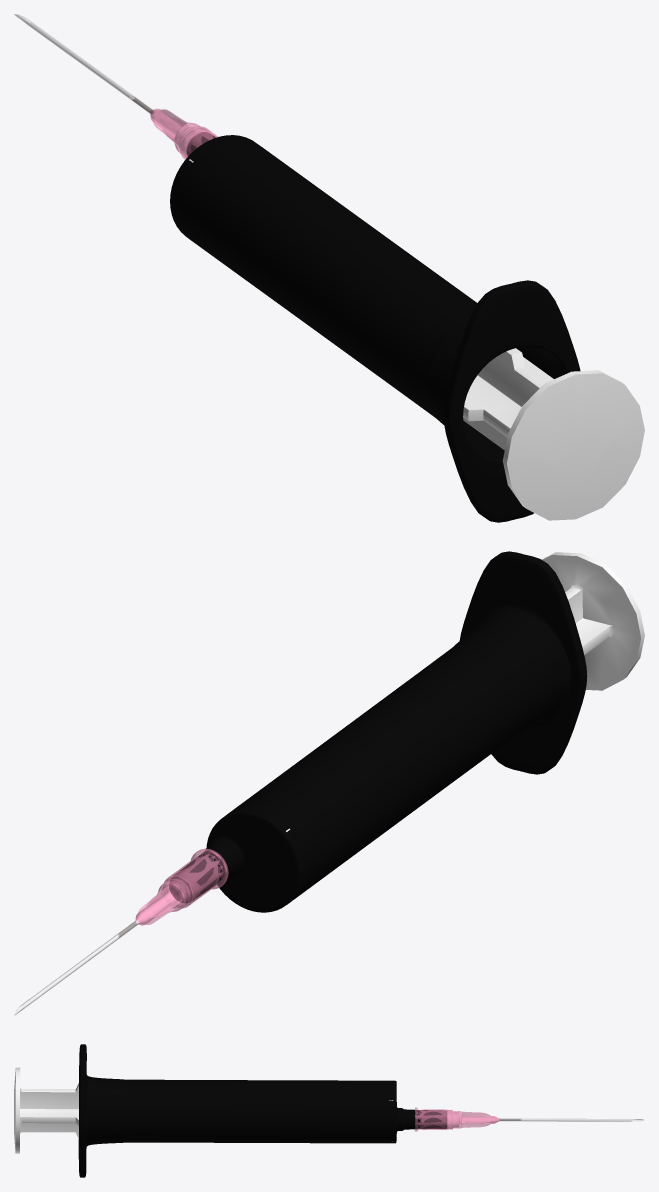
Rendered from 麻醉针.FBX.
3 views of the same model, one above another, from view 1: azimuth 30°, elevation 25°; view 2: azimuth 150°, elevation 25°; view 3: azimuth 270°, elevation 25° (orthographic). The views are drawn at different scales.
Visible parts, largest first — view 1: injector; view 2: injector; view 3: injector.
Boxes of the visible parts, x1,y1,x2,y2 form: injector: [14, 14, 644, 522]; injector: [14, 551, 644, 1015]; injector: [14, 1044, 644, 1177].
Size of the model in its own units: 1.26 by 2.03 by 9.34.
